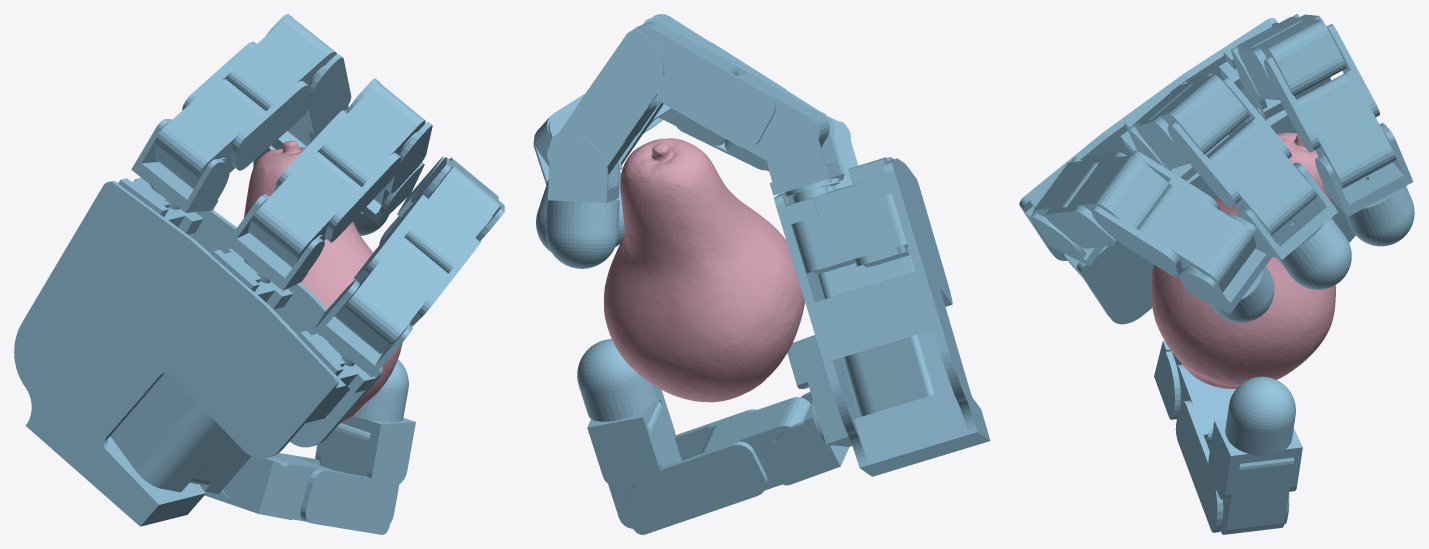
3 renders of one model, left to right at view 1: azimuth 30°, elevation 25°; view 2: azimuth 150°, elevation 25°; view 3: azimuth 270°, elevation 25°, orthographic. The views are drawn at different scales.
Parts seen in each view (by area): view 1: world; view 2: world; view 3: world.
Boxes of the visible parts, x1=… form: world: x1=14, y1=14, x2=504, y2=534; world: x1=533, y1=14, x2=990, y2=534; world: x1=1019, y1=14, x2=1414, y2=534.
Bounding box in the file's own units: 0.1824 × 0.1928 × 0.1404.
